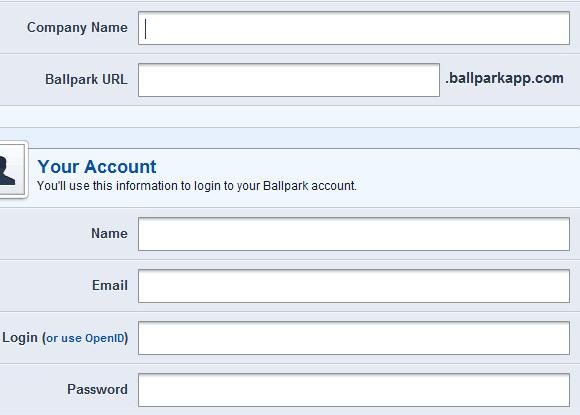field: (135, 268, 571, 305), (135, 373, 572, 409), (135, 321, 571, 356), (135, 11, 572, 45), (135, 216, 570, 250), (135, 62, 441, 98)
field_with_label: (28, 8, 575, 48), (3, 319, 574, 357), (66, 372, 574, 412), (91, 214, 573, 253), (92, 267, 573, 306), (47, 61, 443, 100)
